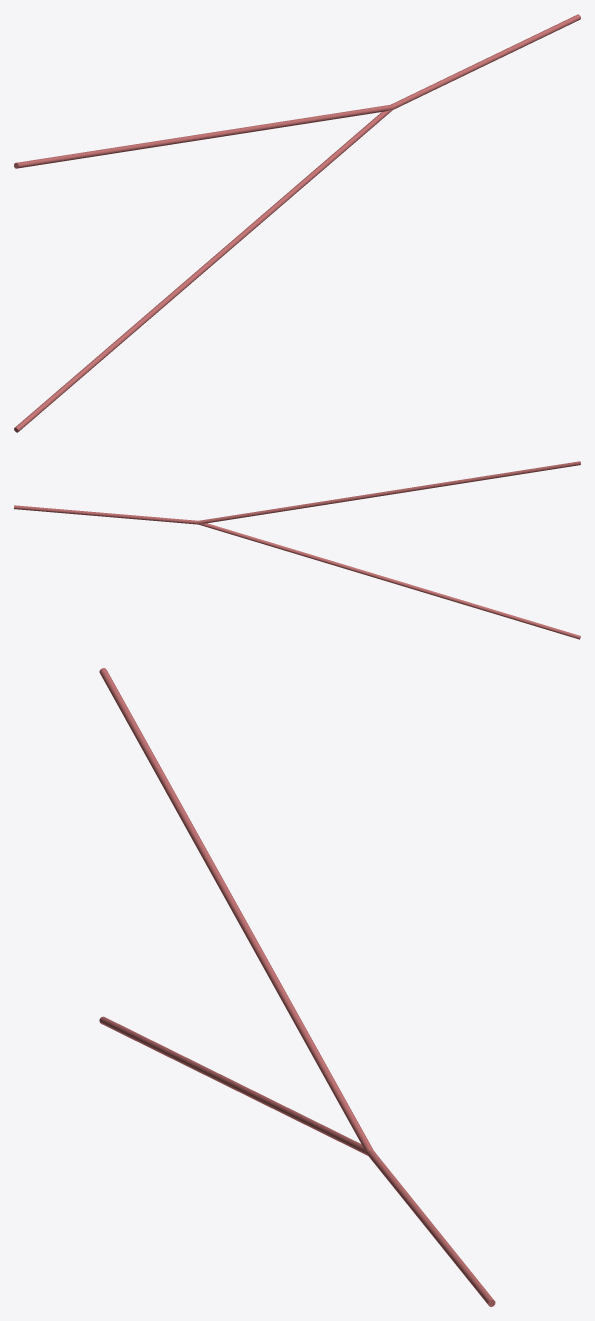
File: CH-RISER.glb
The picture shows the model from 3 angles, top to bottom: view 1: azimuth 30°, elevation 25°; view 2: azimuth 150°, elevation 25°; view 3: azimuth 270°, elevation 25°; orthographic projection. The views are drawn at different scales.
Parts seen in each view (by area): view 1: geometry_0; view 2: geometry_0; view 3: geometry_0.
Part boxes in pixels (box(x1,y1,x2,y2)): geometry_0: box(14, 14, 580, 432); geometry_0: box(14, 461, 580, 639); geometry_0: box(99, 668, 495, 1306).
Size of the model in its own units: 1690 by 612 by 616.
